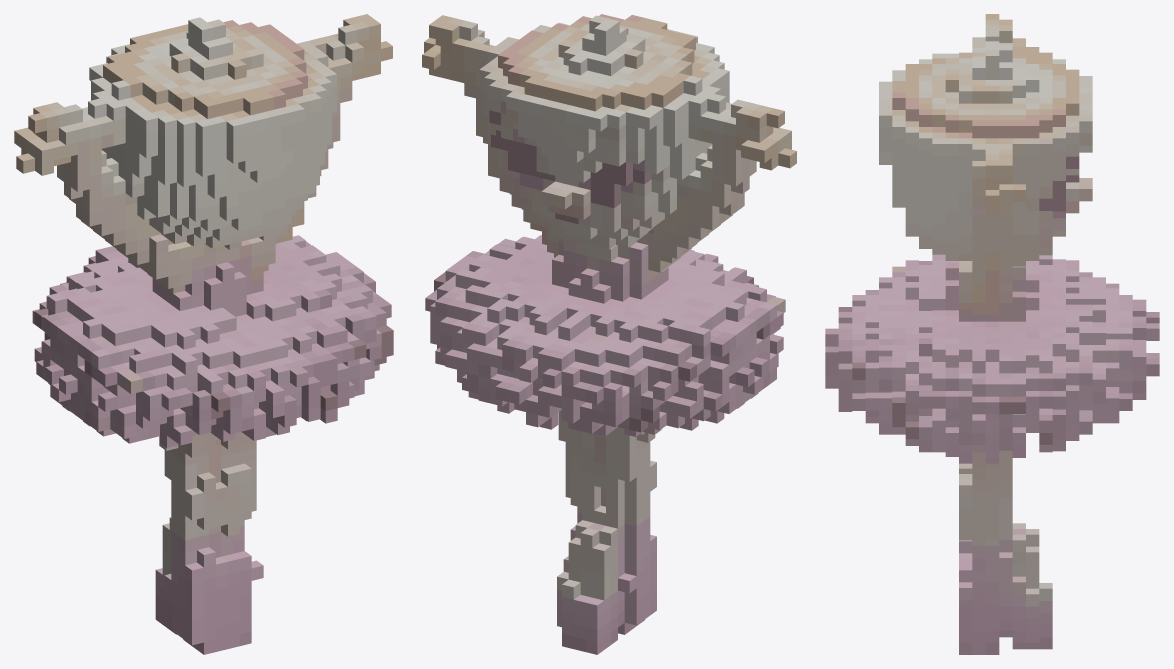
Rendered from BallerinaCappuccina.glb.
3 renders of one model, left to right at view 1: azimuth 30°, elevation 25°; view 2: azimuth 150°, elevation 25°; view 3: azimuth 270°, elevation 25°, orthographic. The views are drawn at different scales.
Parts seen in each view (by area): view 1: geometry_0; view 2: geometry_0; view 3: geometry_0.
Part boxes in pixels (x1,y1,x2,y2): geometry_0: [14, 14, 393, 654]; geometry_0: [422, 14, 796, 654]; geometry_0: [825, 14, 1159, 654].
Bounding box in the file's own units: 0.6327 × 1 × 0.5102.
